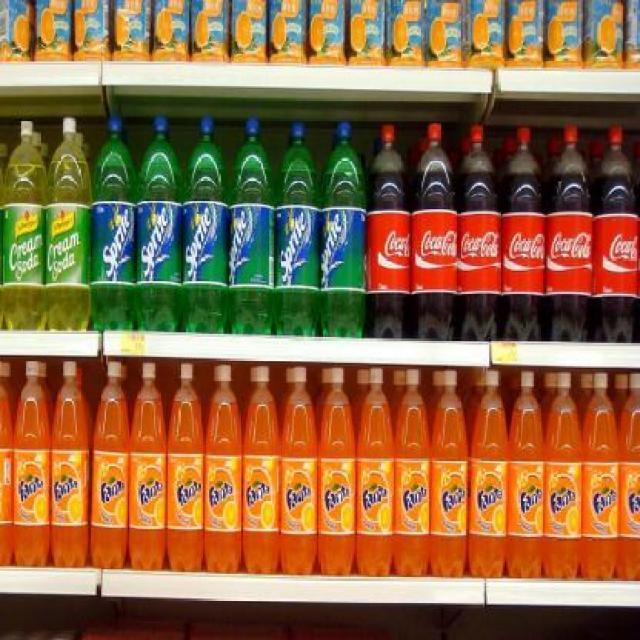Drinks: (544, 124, 593, 342), (592, 123, 640, 343), (411, 122, 459, 340), (135, 115, 183, 332), (228, 118, 274, 335), (183, 116, 229, 333), (274, 123, 320, 337), (321, 123, 365, 340), (500, 124, 544, 341), (367, 123, 411, 340), (92, 116, 136, 330), (457, 124, 500, 341), (355, 366, 393, 577), (318, 366, 356, 577), (280, 367, 318, 576), (91, 360, 129, 569), (242, 366, 280, 574), (129, 362, 167, 570), (50, 360, 88, 568), (12, 359, 50, 567), (545, 372, 583, 580), (506, 371, 544, 579), (469, 370, 507, 578), (394, 368, 431, 579), (205, 365, 242, 573), (583, 372, 620, 580), (432, 370, 469, 578), (168, 362, 204, 573)
